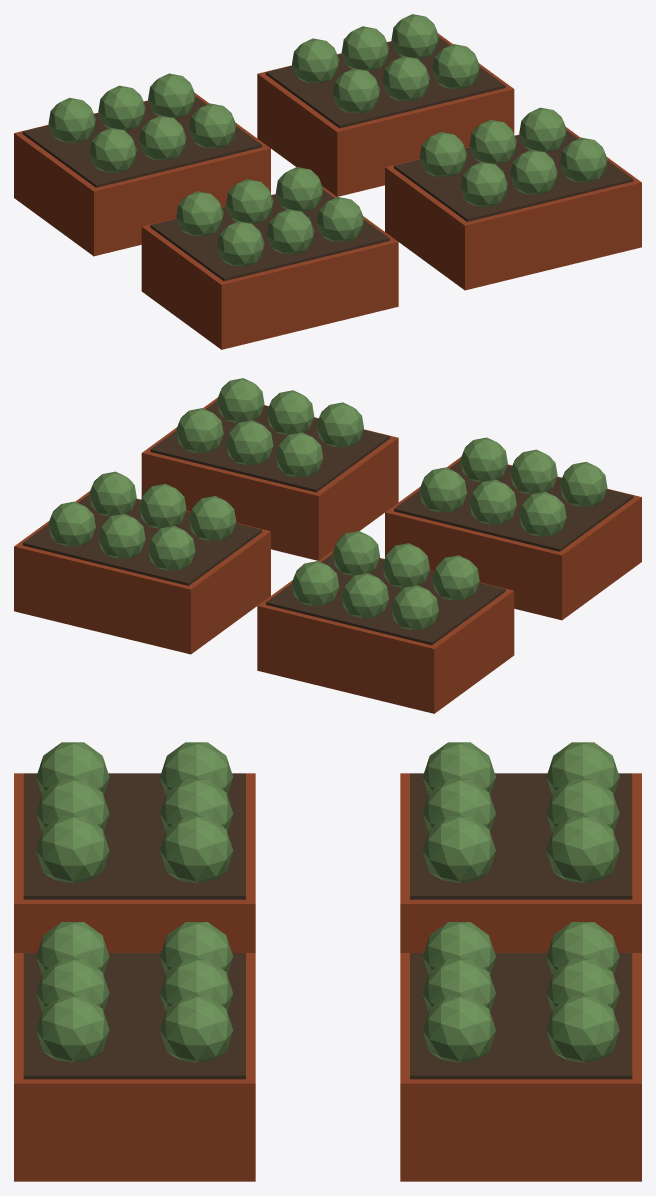
File: beds.glb
3 views of the same model, one above another, from view 1: azimuth 30°, elevation 25°; view 2: azimuth 150°, elevation 25°; view 3: azimuth 270°, elevation 25° (orthographic). The views are drawn at different scales.
Parts seen in each view (by area): view 1: beds_Corten, beds_Zelen, beds_Substrat; view 2: beds_Corten, beds_Zelen, beds_Substrat; view 3: beds_Corten, beds_Zelen, beds_Substrat.
Boxes of the visible parts, x1=… form: beds_Corten: x1=14, y1=33, x2=641, y2=349; beds_Zelen: x1=48, y1=14, x2=607, y2=266; beds_Substrat: x1=22, y1=37, x2=633, y2=281; beds_Corten: x1=14, y1=397, x2=641, y2=713; beds_Zelen: x1=48, y1=378, x2=607, y2=630; beds_Substrat: x1=22, y1=401, x2=633, y2=645; beds_Corten: x1=14, y1=773, x2=641, y2=1181; beds_Zelen: x1=36, y1=742, x2=619, y2=1062; beds_Substrat: x1=23, y1=773, x2=632, y2=1079.
Bounding box in the file's own units: 3.8 × 0.89 × 3.25.
